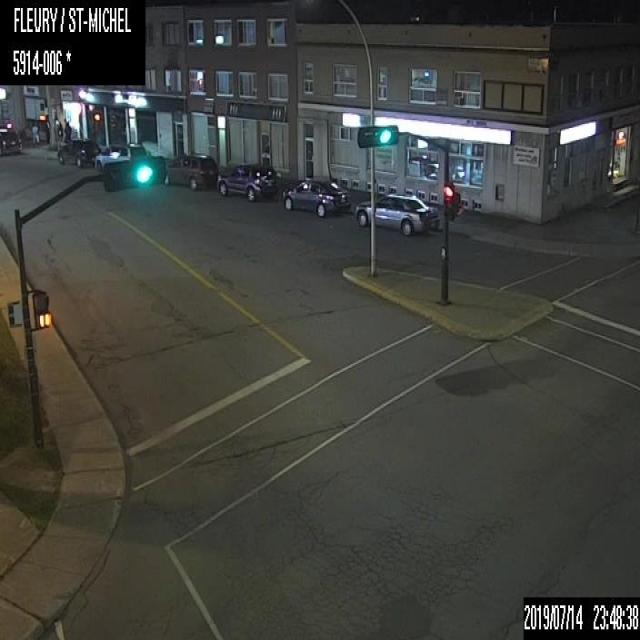pedestrian: (53, 116, 64, 148), (29, 122, 40, 150), (64, 117, 73, 148)
vehicle: (356, 188, 440, 236), (282, 175, 349, 217), (214, 162, 277, 201), (164, 150, 217, 189), (95, 141, 146, 172), (56, 140, 100, 167), (0, 118, 21, 150)
